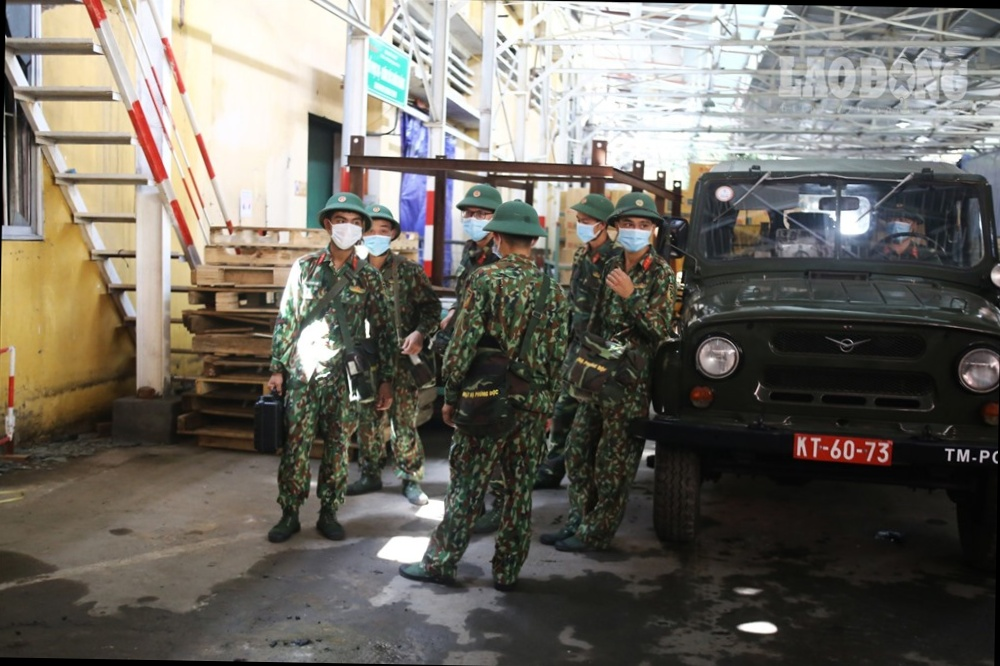plate: (789, 428, 898, 474)
